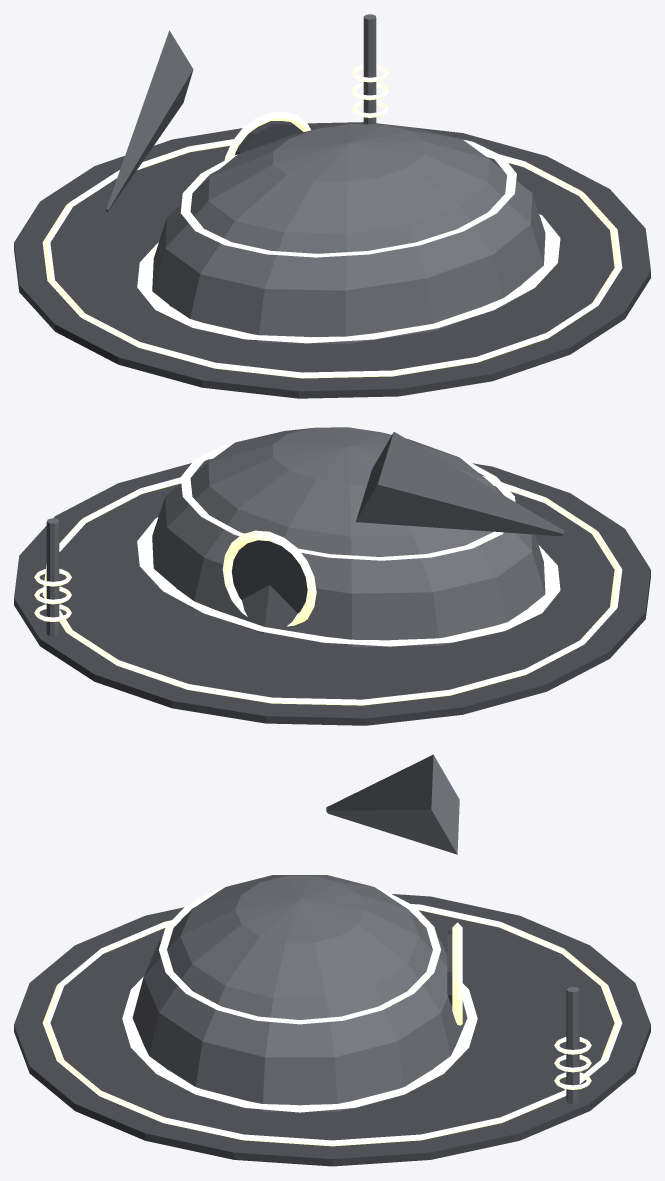
File: zone_low_1_t3.glb
3 renders of one model, top to bottom at view 1: azimuth 30°, elevation 25°; view 2: azimuth 150°, elevation 25°; view 3: azimuth 270°, elevation 25°, orthographic.
Parts seen in each view (by area): view 1: zone_low_1_t3, detail; view 2: zone_low_1_t3, detail; view 3: zone_low_1_t3, detail.
Part boxes in pixels (box(x1,y1,x2,y2)): zone_low_1_t3: box(14, 30, 650, 398); detail: box(42, 14, 622, 378); zone_low_1_t3: box(14, 427, 650, 725); detail: box(34, 443, 622, 705); zone_low_1_t3: box(14, 754, 650, 1166); detail: box(42, 878, 622, 1146).
Bounding box in the file's own units: 19.6 × 7.57 × 19.6.
